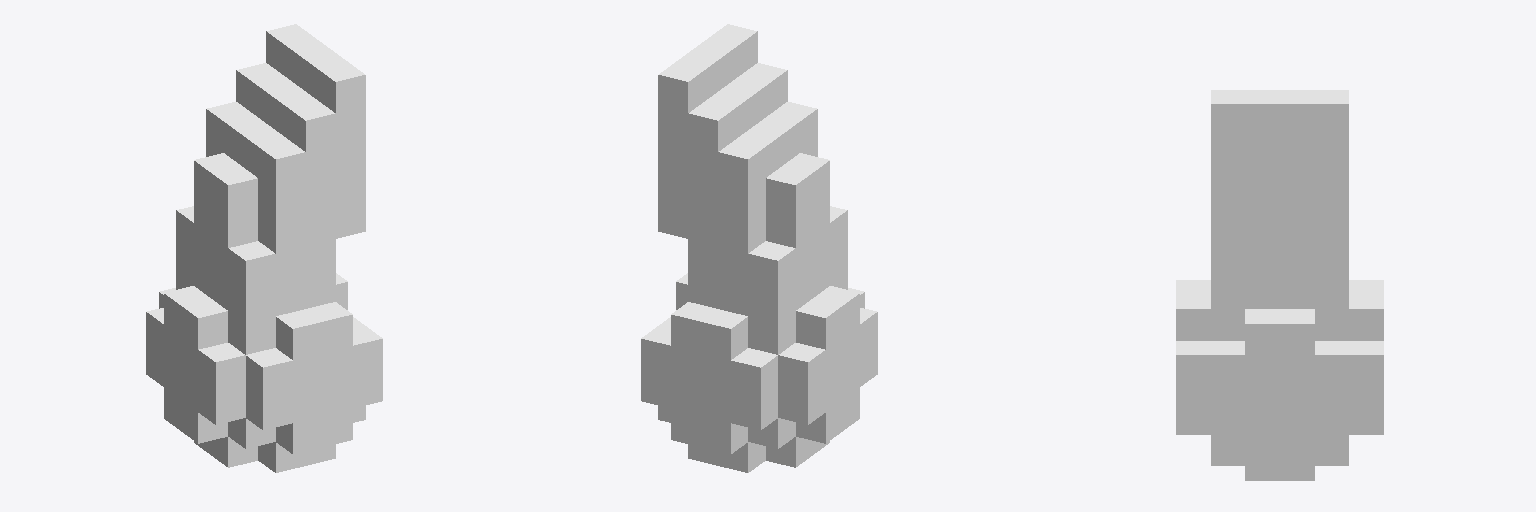
File: BombBrDer.obj
3 renders of one model, left to right at view 1: azimuth 30°, elevation 25°; view 2: azimuth 150°, elevation 25°; view 3: azimuth 270°, elevation 25°, orthographic.
Visible parts, largest first — view 1: bomberman.001; view 2: bomberman.001; view 3: bomberman.001.
Part boxes in pixels (x1,y1,x2,y2): bomberman.001: (146, 24, 382, 472); bomberman.001: (641, 24, 877, 472); bomberman.001: (1176, 90, 1383, 480).
Bounding box in the file's own units: 0.5 × 1.2 × 0.6.